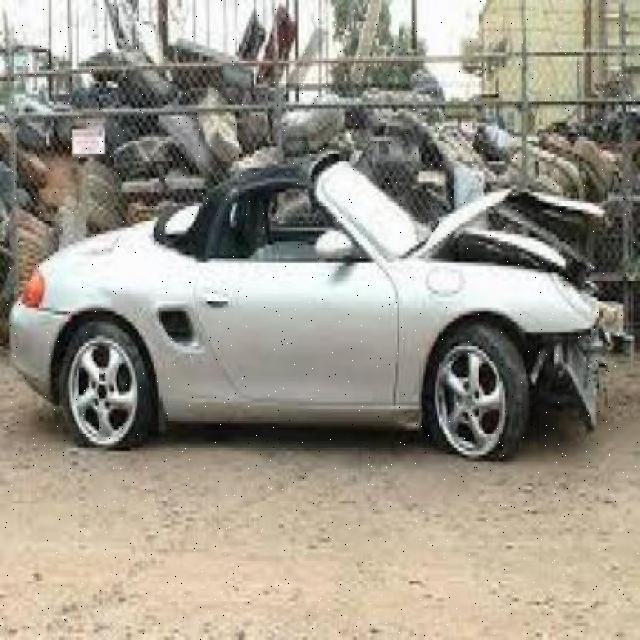damage: (409, 186, 609, 426)
